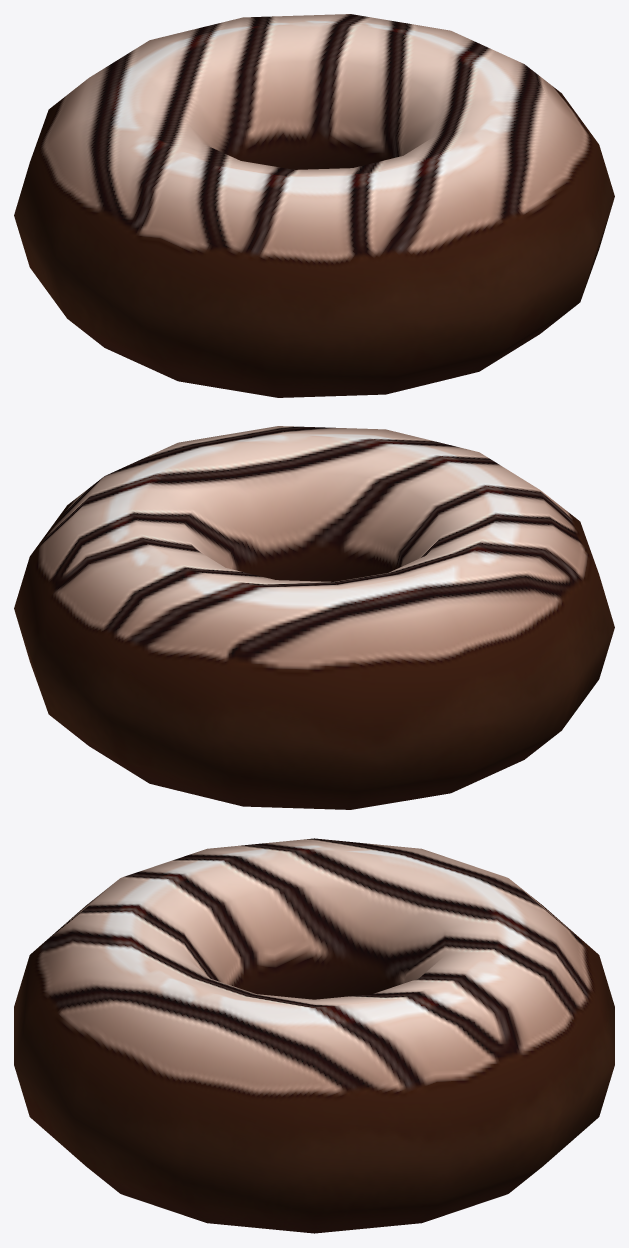
Rendered from 007-Donut_06.FBX.
3 renders of one model, top to bottom at view 1: azimuth 30°, elevation 25°; view 2: azimuth 150°, elevation 25°; view 3: azimuth 270°, elevation 25°, orthographic. The views are drawn at different scales.
Visible parts, largest first — view 1: 007-Donut_06; view 2: 007-Donut_06; view 3: 007-Donut_06.
Part boxes in pixels (<box>): 007-Donut_06: <box>14,14,614,397</box>; 007-Donut_06: <box>14,426,614,809</box>; 007-Donut_06: <box>14,838,614,1233</box>.
Size of the model in its own units: 15.8 by 6.06 by 15.4.
